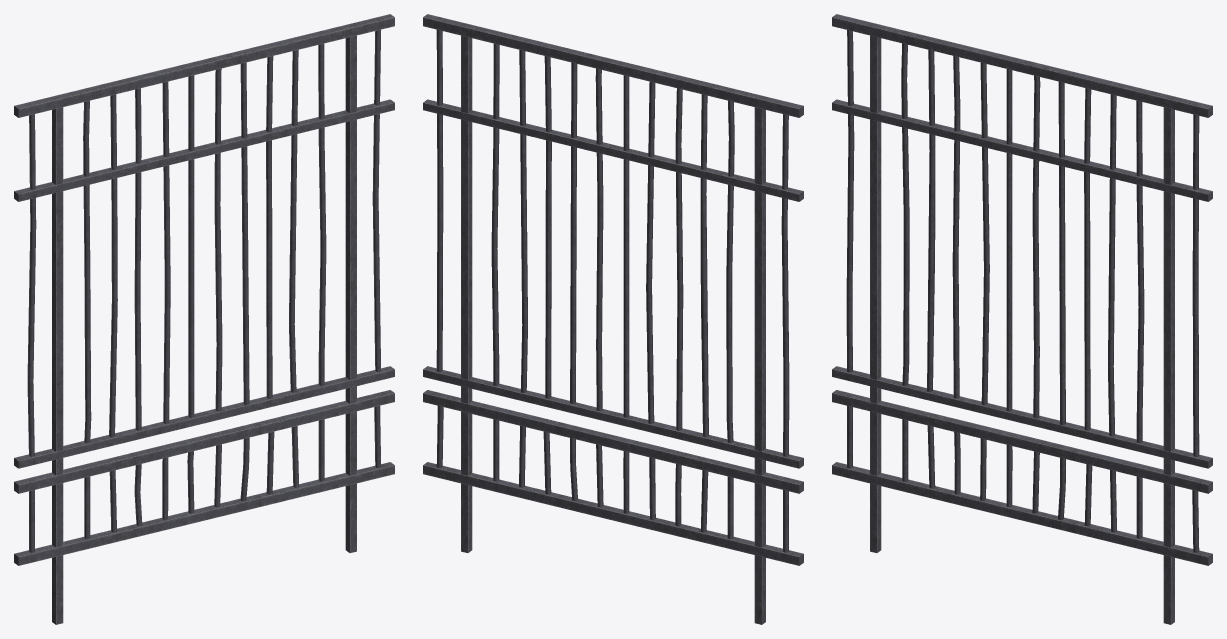
Rendered from SM_Large_Fance_A.fbx.
3 views of the same model, side by side, from view 1: azimuth 30°, elevation 25°; view 2: azimuth 150°, elevation 25°; view 3: azimuth 330°, elevation 25° (orthographic).
Visible parts, largest first — view 1: SM_Large_Fance_A; view 2: SM_Large_Fance_A; view 3: SM_Large_Fance_A.
Part boxes in pixels (x1=…): SM_Large_Fance_A: x1=14, y1=14, x2=394, y2=624; SM_Large_Fance_A: x1=423, y1=14, x2=803, y2=624; SM_Large_Fance_A: x1=832, y1=14, x2=1212, y2=624.
Size of the model in its own units: 300 by 400 by 6.27.
